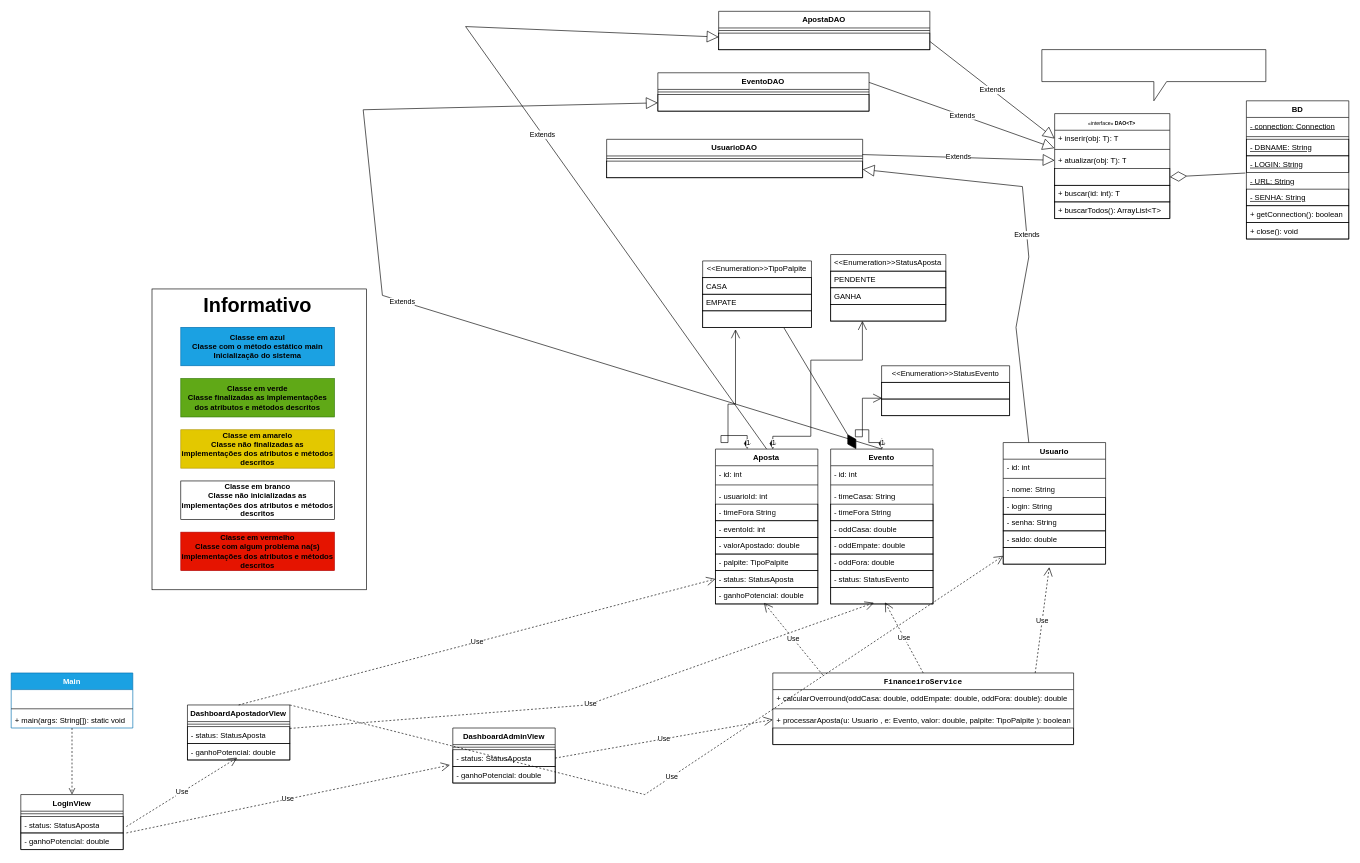
This 1360x863 diagram has some shape labels left out. The shapes that lost their labels are listed below. From the top down, each one's centre as x and y in pixels, then its label:
At point (824, 41): "+ listarApostasPorUsuario(int usuarioId): ArrayList<Aposta>".
At point (1153, 75): "https://docs.oracle.com/javase/tutorial/java/generics/types.html".
At point (763, 102): "+ listarEventosAbertos(): ArrayList<Evento>".
At point (734, 169): "+ buscarPorLoginESenha(login: String, senha: String): Usuario".
At point (1112, 176): "+ deletar(id: int): void".
At point (756, 318): "FORA".
At point (888, 312): "PERDIDA".
At point (945, 390): "ABERTO".
At point (945, 407): "ENCERRADO".
At point (1054, 555): "- ehAdmin: boolean".
At point (881, 595): "- resultadoFinal: TipoPalpite".
At point (923, 736): "+ encerrarEvento(e: Evento , resultadoReal: TipoPalpite ): Evento".
